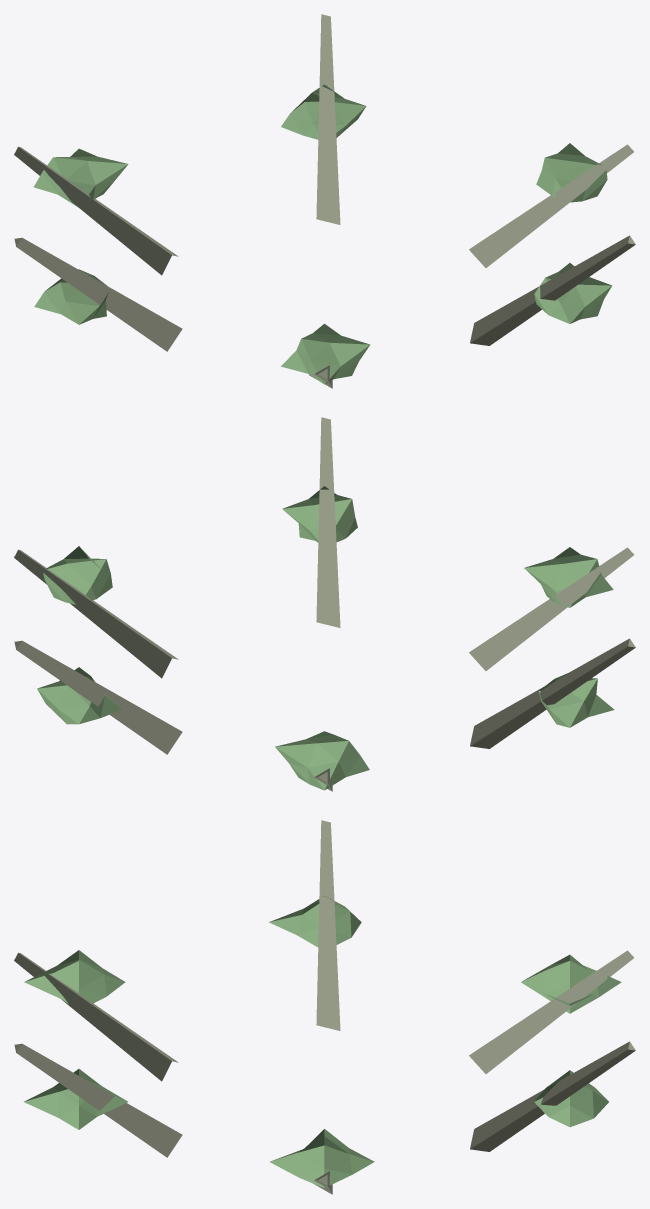
Rendered from bramble_v39.glb.
3 renders of one model, top to bottom at view 1: azimuth 30°, elevation 25°; view 2: azimuth 150°, elevation 25°; view 3: azimuth 270°, elevation 25°, orthographic.
Parts seen in each view (by area): view 1: lod0; view 2: lod0; view 3: lod0.
Part boxes in pixels (x1=…): lod0: x1=14, y1=14, x2=635, y2=388; lod0: x1=14, y1=417, x2=635, y2=791; lod0: x1=14, y1=820, x2=635, y2=1194.
Size of what is drawn, in the model's own units: 1.11 by 0.2562 by 0.9691.
